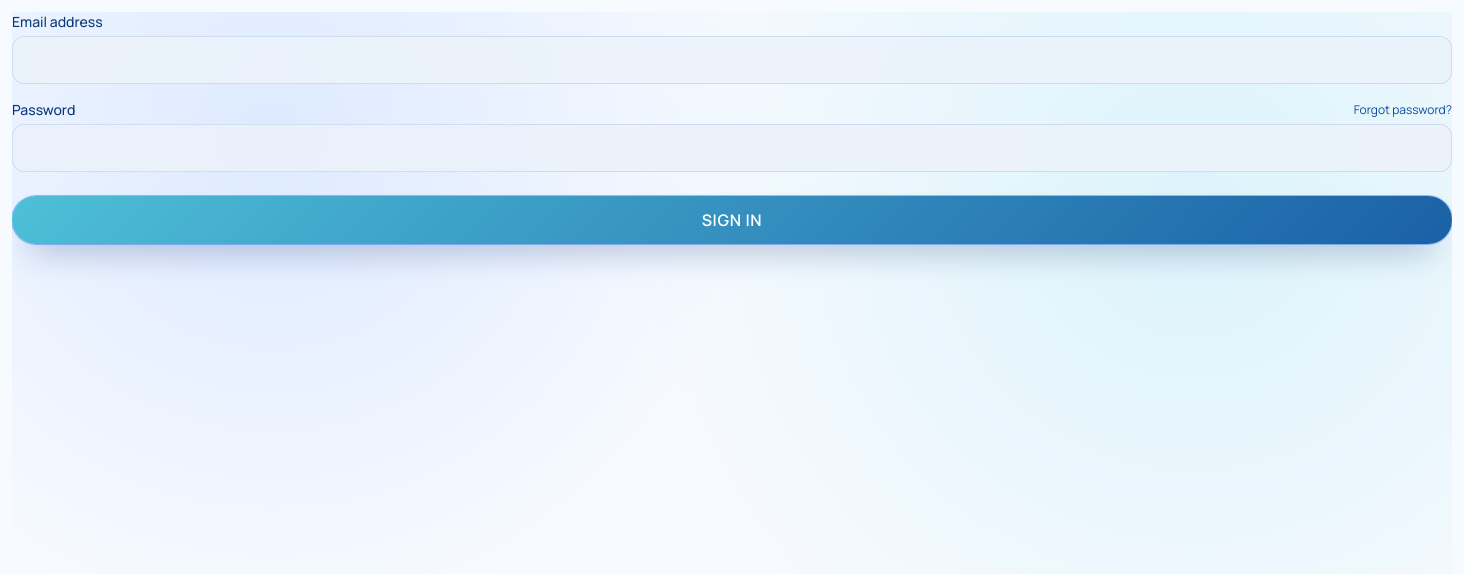
Test case: LoginForm › shows server error message when login fails
This screenshot has width=1464, height=574.
Type "test@vimex.mx" into the field labelled "Email address" at [732, 60], box x1=12 y1=36 x2=1452 y2=84
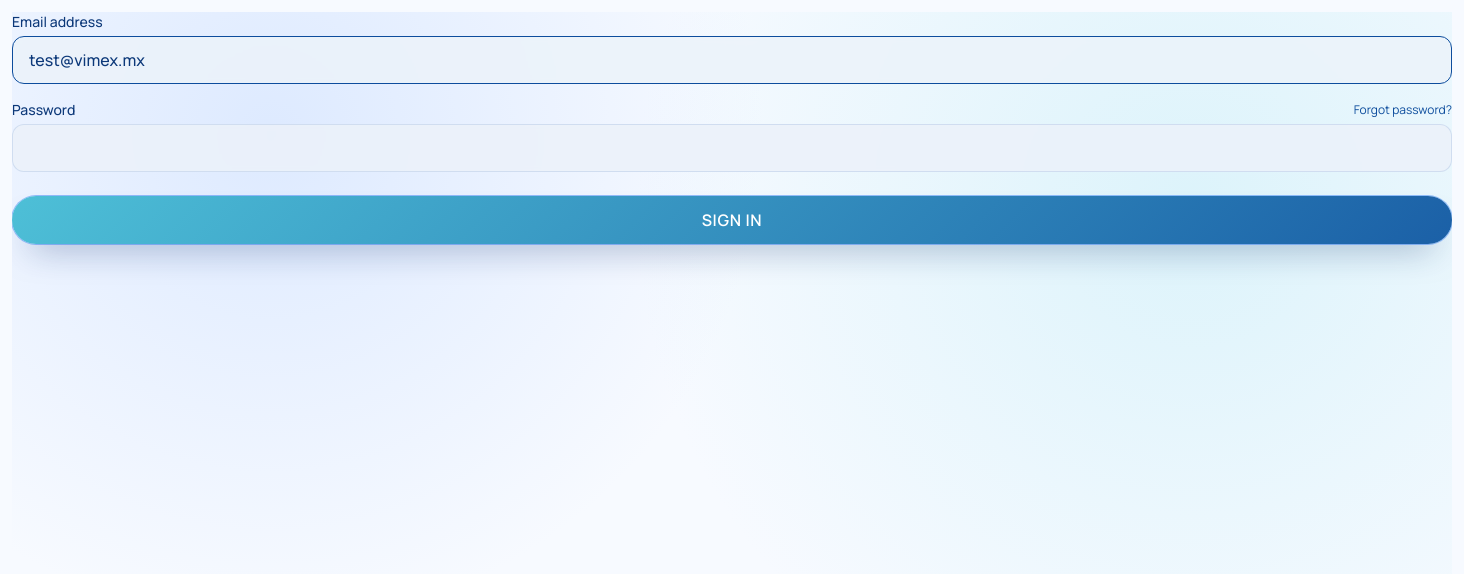
Type "WrongPassword!" into the password field labelled "Password Forgot password?" at [732, 148], box x1=12 y1=124 x2=1452 y2=172
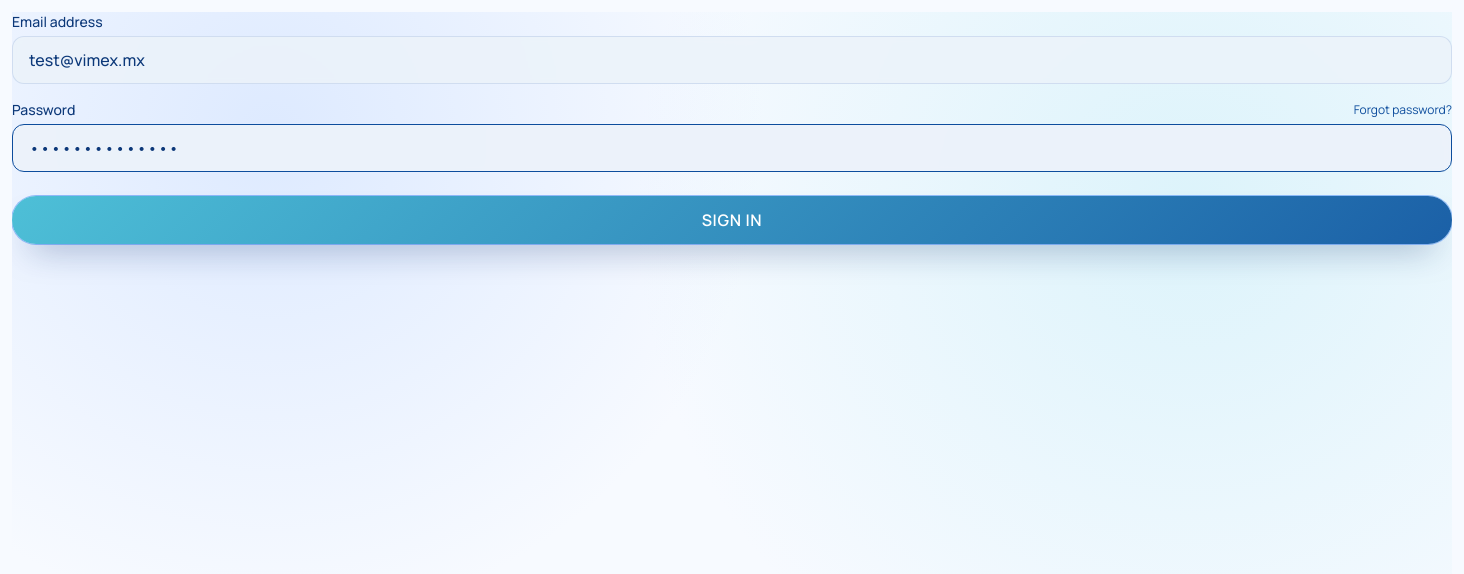
Click the button "Sign in" at [732, 220], box x1=12 y1=196 x2=1452 y2=244
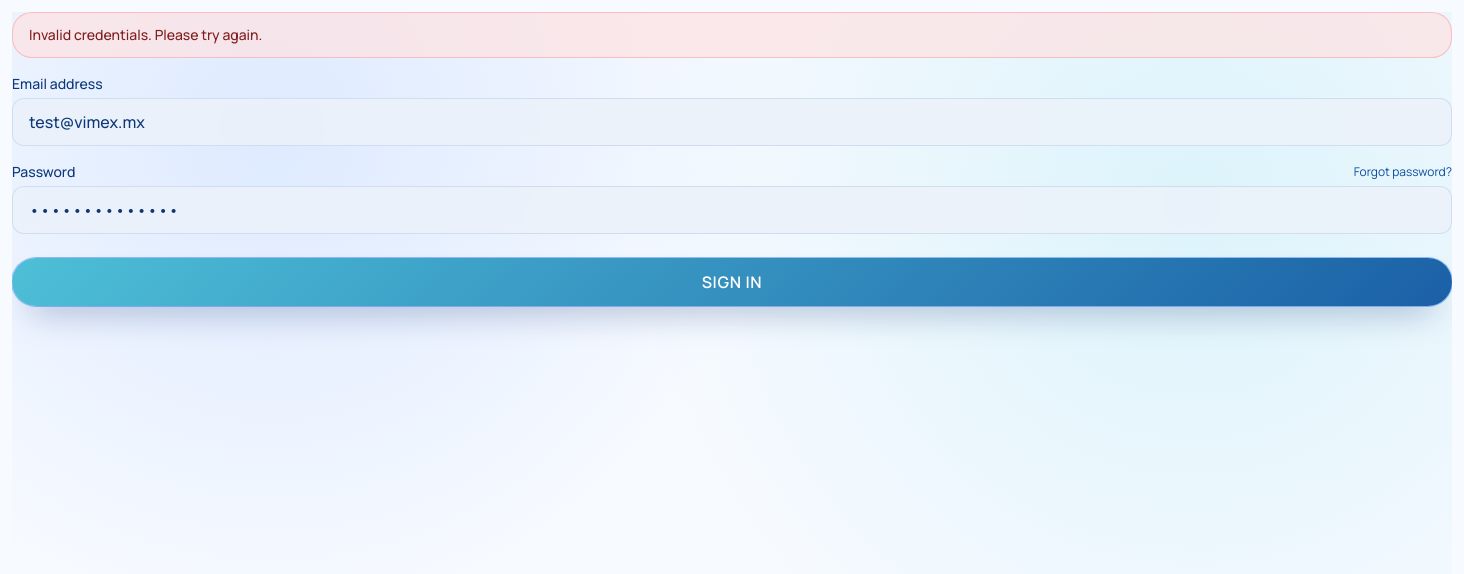
Expected: the message reads "Invalid credentials. Please try again.", x1=29 y1=25 x2=262 y2=44
